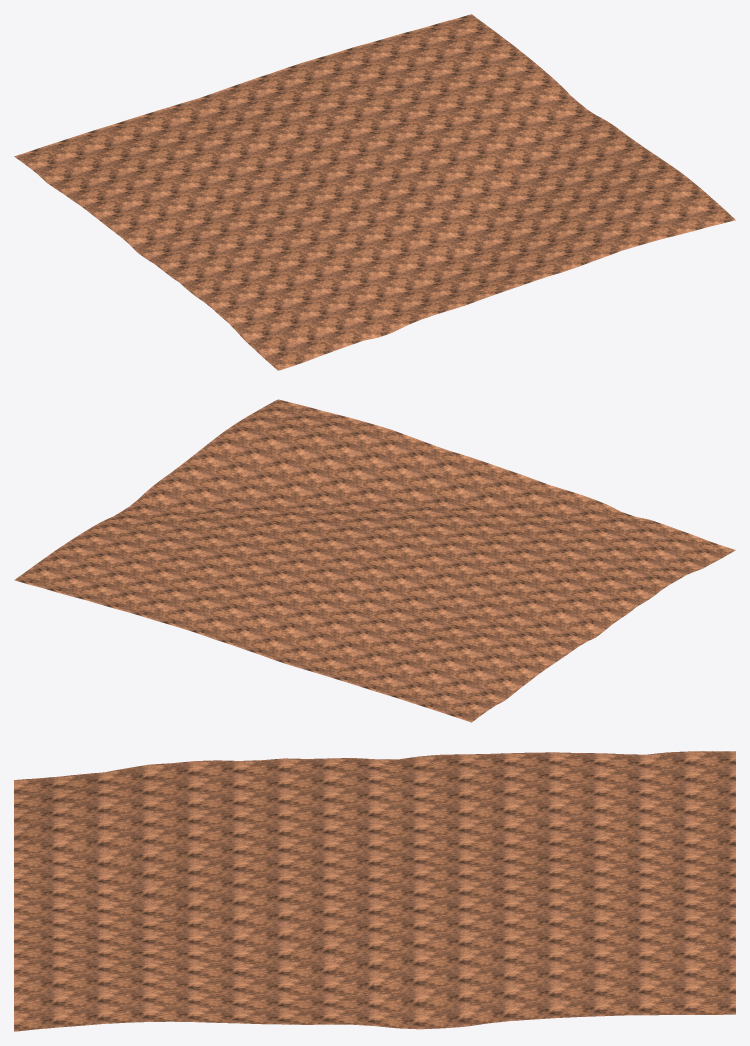
Rendered from terrain_07_09.dae.
3 views of the same model, one above another, from view 1: azimuth 30°, elevation 25°; view 2: azimuth 150°, elevation 25°; view 3: azimuth 270°, elevation 25° (orthographic). The views are drawn at different scales.
Parts seen in each view (by area): view 1: terrain_07_09-node; view 2: terrain_07_09-node; view 3: terrain_07_09-node.
Part boxes in pixels (box(x1,y1,x2,y2)): terrain_07_09-node: box(14, 14, 735, 370); terrain_07_09-node: box(14, 399, 735, 722); terrain_07_09-node: box(14, 751, 735, 1031).
Bounding box in the file's own units: 128 × 128 × 13.8.
Materials: 1 (1 with a texture image).
